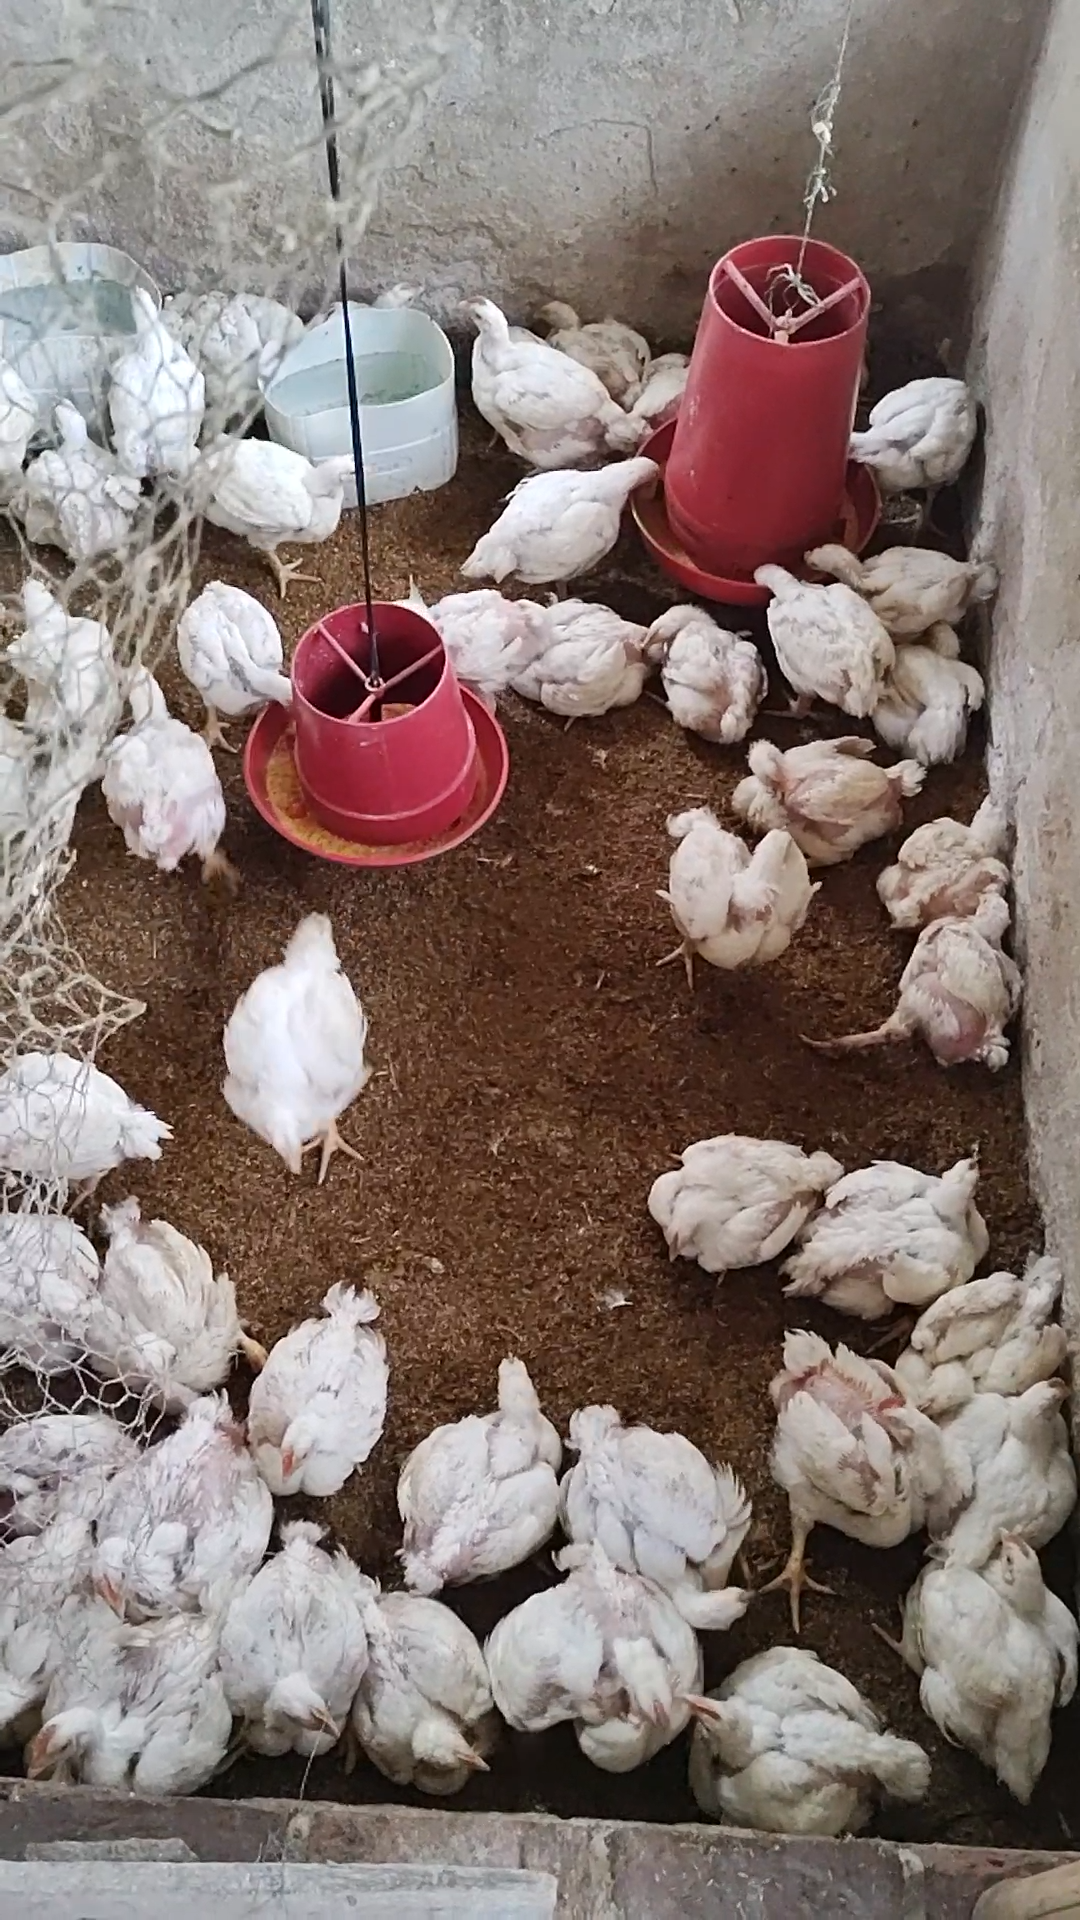Pollos: (752, 1327, 949, 1623), (679, 1640, 930, 1840), (65, 1400, 272, 1640), (215, 910, 385, 1193), (905, 1522, 1079, 1795), (492, 1552, 692, 1776), (15, 1597, 225, 1800), (392, 1345, 568, 1586), (804, 901, 1043, 1065), (775, 1139, 992, 1317), (80, 1195, 260, 1404), (556, 1393, 745, 1592), (638, 1110, 843, 1286), (245, 1269, 400, 1495), (452, 444, 671, 604), (219, 1516, 357, 1767), (886, 1237, 1076, 1414), (443, 298, 634, 469), (923, 1364, 1080, 1571), (650, 802, 806, 1006), (112, 659, 251, 889), (345, 1571, 493, 1785), (713, 729, 919, 882), (177, 430, 361, 593), (0, 1039, 177, 1182), (525, 255, 674, 421), (746, 555, 893, 723), (171, 568, 309, 742), (806, 520, 996, 644), (107, 287, 214, 487), (498, 589, 662, 717), (25, 396, 149, 559), (865, 625, 1011, 757), (876, 800, 1025, 928), (638, 592, 761, 745), (843, 369, 984, 496)
